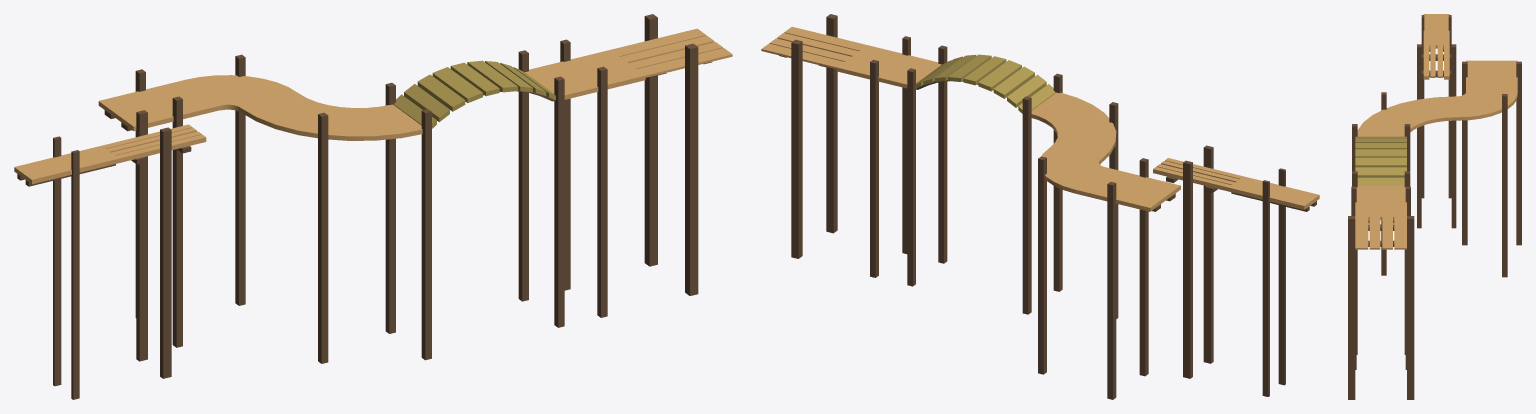
Rendered from Paths.fbx.
3 renders of one model, left to right at view 1: azimuth 30°, elevation 25°; view 2: azimuth 150°, elevation 25°; view 3: azimuth 270°, elevation 25°, orthographic. The views are drawn at different scales.
Parts seen in each view (by area): view 1: bridge.003, PathStraight.009, PathCornerLarge.002, PathStraightNarrow, PathStraight.001, PathStraight.005, PathStraight.000, PathCorner.001; view 2: bridge.003, PathStraight.009, PathStraight.005, PathStraightNarrow, PathStraight.001, PathStraight.000, PathCornerLarge.002, PathCorner.001; view 3: PathStraight.009, PathStraight.005, bridge.003, PathCornerLarge.002, PathStraightNarrow, PathCorner.001, PathStraight.001, PathStraight.000.
Part boxes in pixels (left/top/right/bottom): bridge.003: left=385, top=50, right=564, bottom=360; PathStraight.009: left=610, top=14, right=732, bottom=295; PathCornerLarge.002: left=241, top=93, right=422, bottom=363; PathStraightNarrow: left=102, top=110, right=206, bottom=378; PathStraight.001: left=525, top=39, right=645, bottom=317; PathStraight.005: left=98, top=69, right=220, bottom=347; PathStraight.000: left=14, top=136, right=118, bottom=399; PathCorner.001: left=186, top=54, right=298, bottom=305; bridge.003: left=907, top=45, right=1062, bottom=314; PathStraight.009: left=761, top=14, right=867, bottom=258; PathStraight.005: left=1074, top=158, right=1180, bottom=399; PathStraightNarrow: left=1153, top=145, right=1243, bottom=378; PathStraight.001: left=837, top=36, right=941, bottom=277; PathStraight.000: left=1228, top=168, right=1319, bottom=396; PathCornerLarge.002: left=1031, top=92, right=1118, bottom=318; PathCorner.001: left=1038, top=147, right=1104, bottom=374; PathStraight.009: left=1348, top=216, right=1414, bottom=399; PathStraight.005: left=1462, top=60, right=1521, bottom=245; bridge.003: left=1352, top=124, right=1410, bottom=354; PathCornerLarge.002: left=1357, top=92, right=1454, bottom=275; PathStraightNarrow: left=1417, top=44, right=1456, bottom=228; PathCorner.001: left=1455, top=92, right=1517, bottom=277; PathStraight.001: left=1351, top=185, right=1410, bottom=369; PathStraight.000: left=1421, top=14, right=1451, bottom=198.
Size of the model in its own units: 1500 by 551 by 471.
